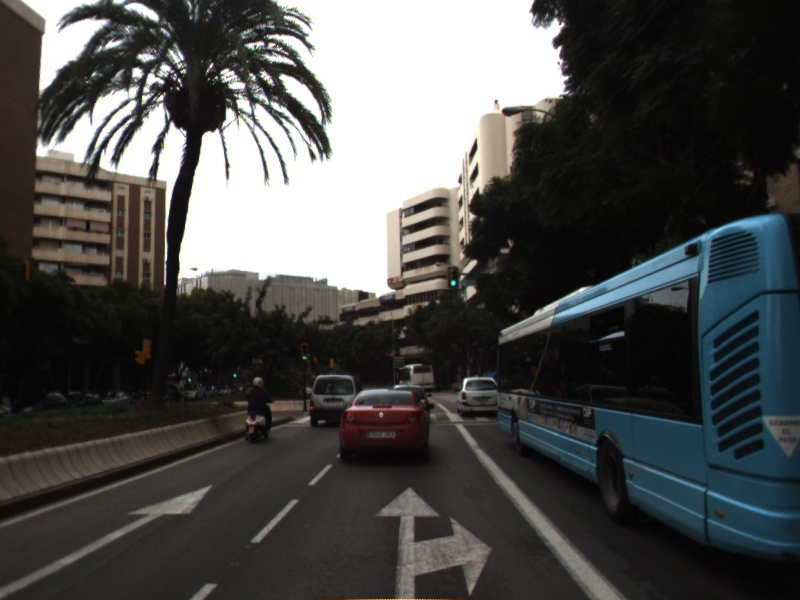STRAIGHT: (1, 481, 219, 600)
STRAIGHT_RIGHT: (369, 481, 497, 600)
